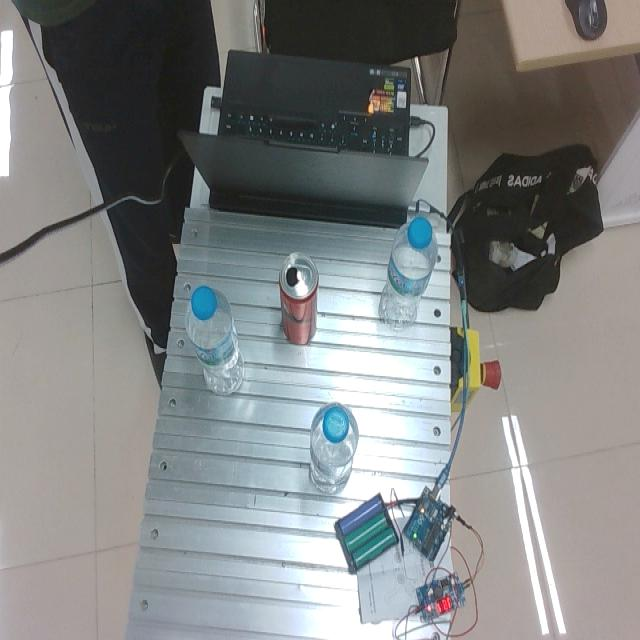coca: (278, 252, 320, 345)
lavie: (184, 284, 246, 396), (379, 216, 439, 329), (310, 403, 359, 493)
